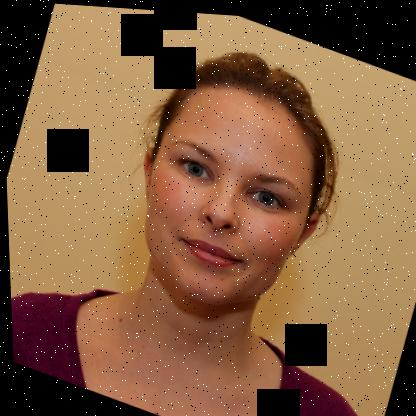Female: (103, 54, 349, 334)
